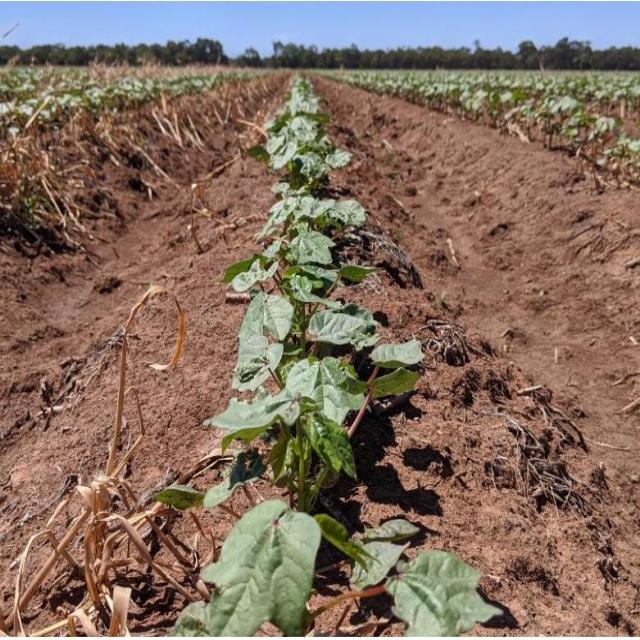row: (308, 71, 640, 638), (0, 71, 285, 638)
